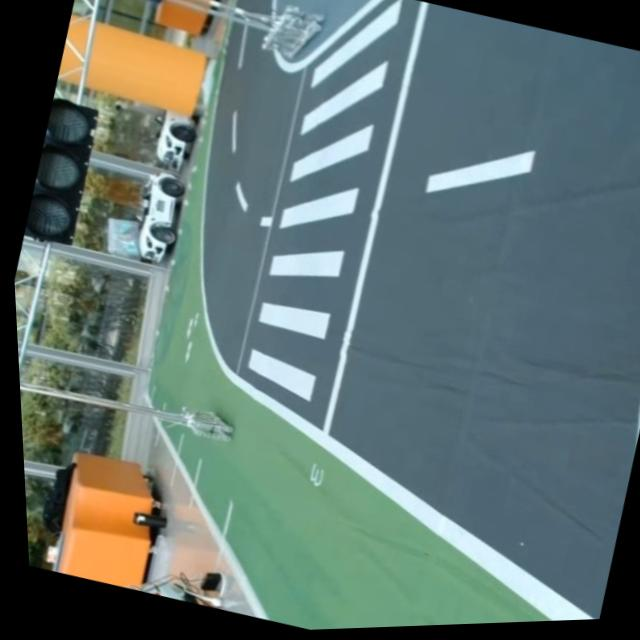traffic-light: (14, 87, 113, 254)
